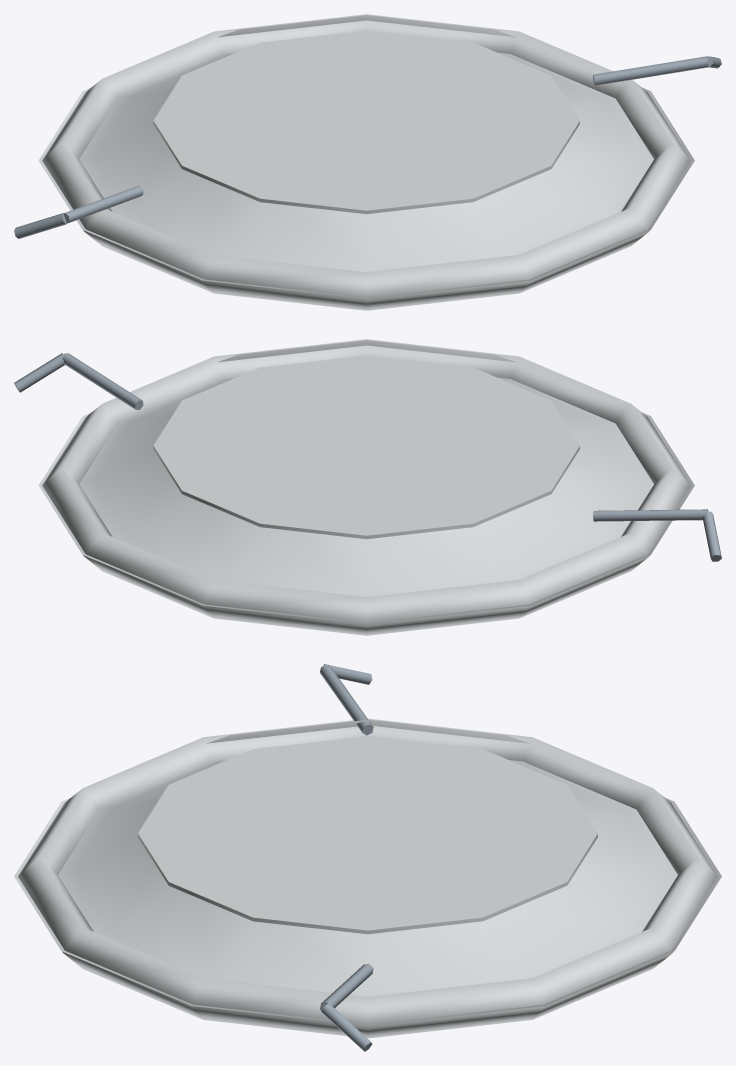
Rendered from source.glb.
3 renders of one model, top to bottom at view 1: azimuth 30°, elevation 25°; view 2: azimuth 150°, elevation 25°; view 3: azimuth 270°, elevation 25°, orthographic. The views are drawn at different scales.
Visible parts, largest first — view 1: 粉末涂层铝壳, 机加工金属; view 2: 粉末涂层铝壳, 机加工金属; view 3: 粉末涂层铝壳, 机加工金属.
Part boxes in pixels (bbox=[...]): 粉末涂层铝壳: bbox=[38, 14, 694, 310]; 机加工金属: bbox=[14, 56, 721, 238]; 粉末涂层铝壳: bbox=[38, 339, 694, 635]; 机加工金属: bbox=[14, 353, 721, 561]; 粉末涂层铝壳: bbox=[14, 718, 721, 1038]; 机加工金属: bbox=[320, 664, 373, 1051].
Bounding box in the file's own units: 0.1491 × 0.0124 × 0.12.
